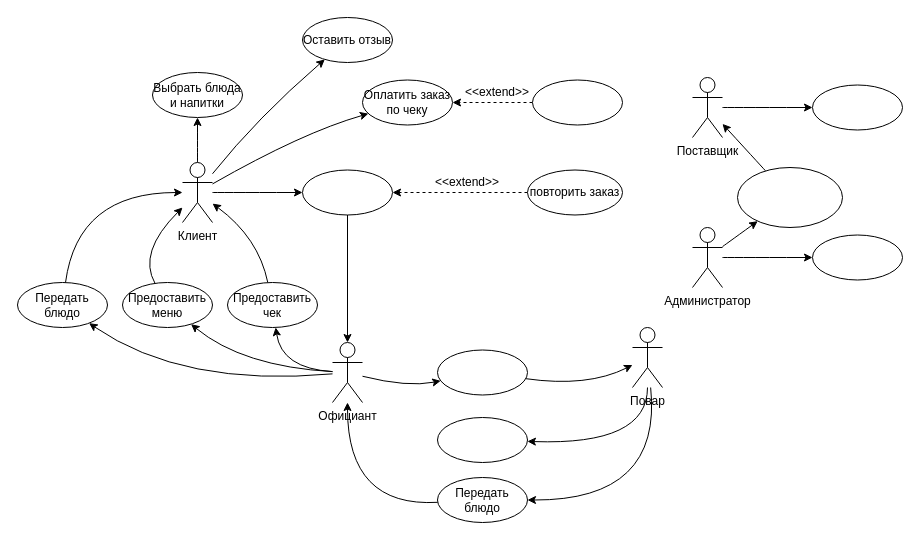
The diagram is 920 pixels wide and 540 high, and some of its shapes have lost their labels. Each missing label, with the centre of its shape:
Анализ отзыва клиентов: [857,257]
организовать поставку продуктов: [789,197]
оставить чаевые: [577,102]
Передать заказ: [482,372]
Поставить продукты в ресторан: [857,107]
Приготовить блюдо: [482,439]
Сделать заказ: [347,192]
